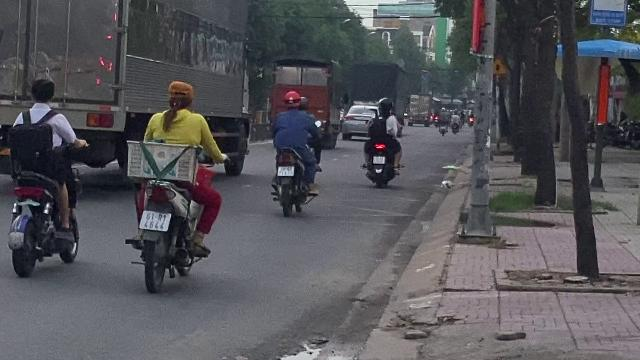helmet: (283, 90, 301, 110)
licenseplate: (140, 211, 170, 231), (278, 167, 294, 177)
motorcyclist: (121, 78, 225, 294), (1, 74, 87, 278), (267, 88, 323, 216)
nohelmet: (164, 80, 194, 110), (28, 77, 56, 105)
